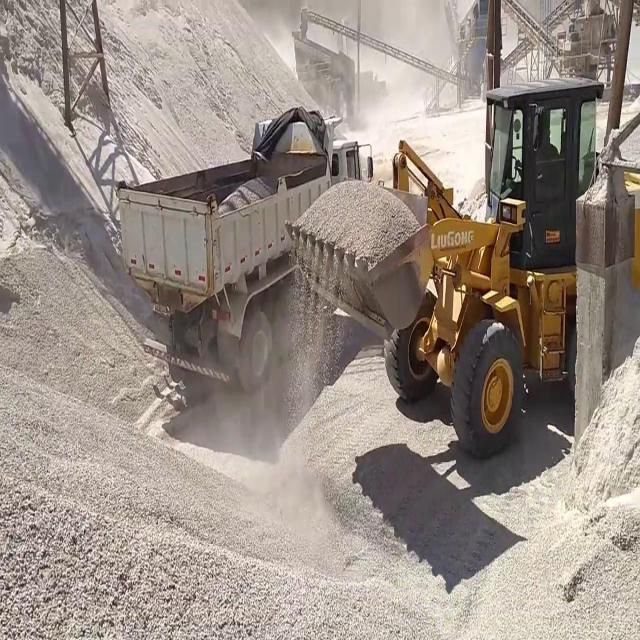buldozerpayloadergrader: (284, 76, 640, 458)
dump_truck: (114, 113, 373, 394)
